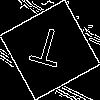T: (25, 25, 67, 77)
